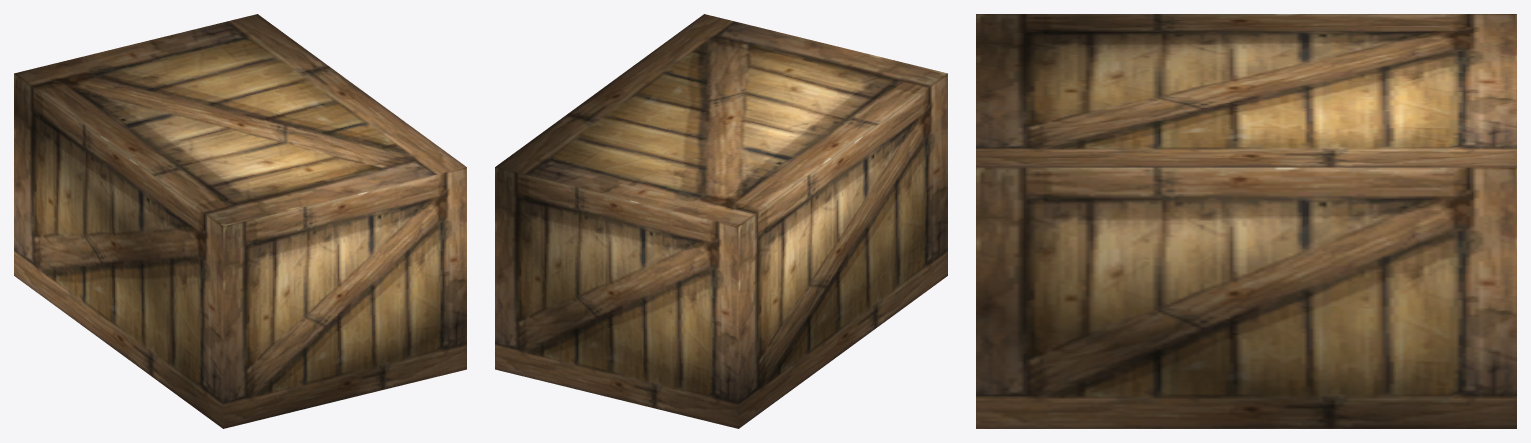
Rendered from replacecrate01.obj.
3 views of the same model, side by side, from view 1: azimuth 30°, elevation 25°; view 2: azimuth 150°, elevation 25°; view 3: azimuth 270°, elevation 25° (orthographic). The views are drawn at different scales.
Parts seen in each view (by area): view 1: replacecrate01; view 2: replacecrate01; view 3: replacecrate01.
Part boxes in pixels (x1,y1,x2,y2): replacecrate01: (14, 14, 466, 428); replacecrate01: (495, 14, 947, 428); replacecrate01: (976, 14, 1516, 428).
Size of the model in its own units: 0.8002 by 0.6349 by 1.19.
1 material, 1 textured.
